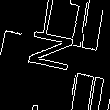N_E: (26, 30, 84, 80)
